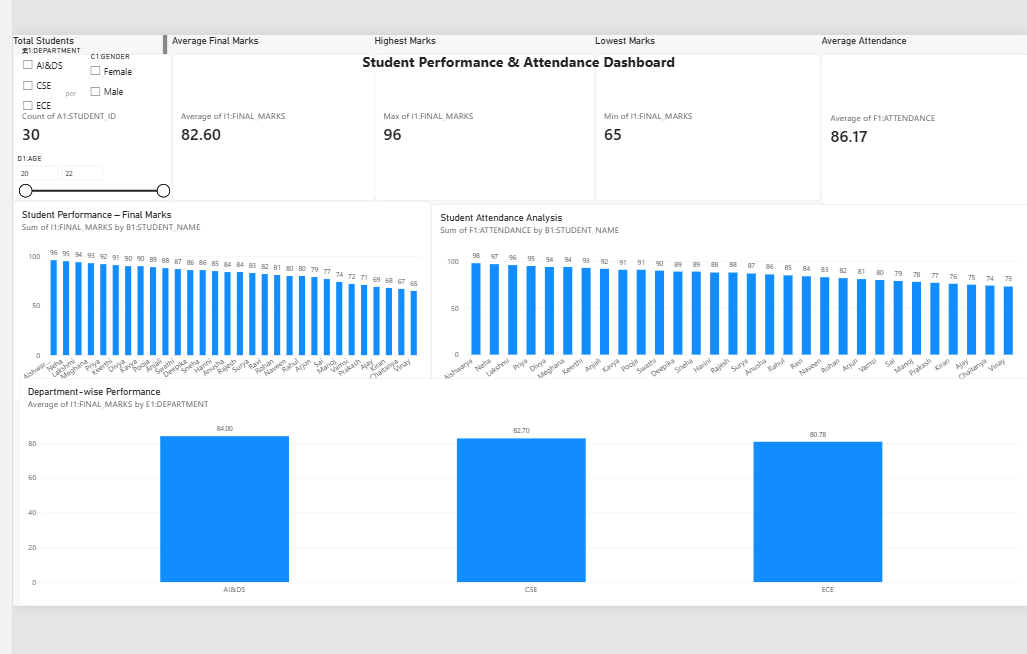

The page's visual inventory and layout, read from the dashboard file:
{"tool":"powerbi","page":{"name":"Page 1","canvas":[1920,1080],"ordinal":0},"visuals":[{"type":"cardVisual","fields":{"Rows":["Sheet1.A1:STUDENT_ID"]},"box":[10,0,280,280],"z":0},{"type":"cardVisual","title":"Average Final Marks","fields":{"Data":["Avg(Sheet1.I1:FINAL_MARKS)"]},"box":[300,0,383.3,313.3],"z":1000},{"type":"cardVisual","title":"Highest Marks","fields":{"Data":["Max(Sheet1.I1:FINAL_MARKS)"]},"box":[683.3,0,416.7,313.3],"z":2000},{"type":"cardVisual","title":"Lowest Marks","fields":{"Data":["Min(Sheet1.I1:FINAL_MARKS)"]},"box":[1100,0,426.7,313.3],"z":3000},{"type":"cardVisual","title":"Average Attendance","fields":{"Data":["Avg(Sheet1.F1:ATTENDANCE)"]},"box":[1526.7,0,393.3,320],"z":4000},{"type":"cardVisual","title":"Total Students","fields":{"Data":["Count(Sheet1.A1:STUDENT_ID)"]},"box":[0,0,300,313.3],"z":5000},{"type":"clusteredColumnChart","title":"Student Performance – Final Marks","fields":{"Category":["Sheet1.B1:STUDENT_NAME"],"Y":["Sum(Sheet1.I1:FINAL_MARKS)"]},"box":[0,313.3,790,376.7],"z":6000},{"type":"clusteredColumnChart","title":"Student Attendance Analysis","fields":{"Category":["Sheet1.B1:STUDENT_NAME"],"Y":["Sum(Sheet1.F1:ATTENDANCE)"]},"box":[790,320,1130,370],"z":7000},{"type":"clusteredColumnChart","title":"Department-wise Performance","fields":{"Category":["Sheet1.E1:DEPARTMENT"],"Y":["Avg(Sheet1.I1:FINAL_MARKS)"]},"box":[10,650,1910,430],"z":8000},{"type":"textbox","box":[100,100,300,300],"z":9000},{"type":"textbox","box":[100,0,300,400],"z":10000},{"type":"textbox","box":[100,100,300,300],"z":11000},{"type":"textbox","box":[100,100,300,300],"z":12000},{"type":"textbox","box":[100,100,300,300],"z":13000},{"type":"textbox","box":[100,100,300,300],"z":14000},{"type":"textbox","box":[100,30,1713.3,193.3],"z":15000},{"type":"slicer","fields":{"Values":["Sheet1.E1:DEPARTMENT"]},"box":[10,20,300,300],"z":15001},{"type":"slicer","fields":{"Values":["Sheet1.C1:GENDER"]},"box":[140,30,300,300],"z":15002},{"type":"slicer","fields":{"Values":["Sheet1.D1:AGE"]},"box":[0,223.3,300,300],"z":15003}]}

Visuals, with their boxes on the page's 1920x1080 design canvas (x1, y1, x2, y2). These are canvas units, not pixel positions in the 1027x654 screenshot, which may show the page scaled, cropped or inside an application window:
cardVisual - Sheet1.A1:STUDENT_ID: <box>10,0,290,280</box>
"Average Final Marks" cardVisual: <box>300,0,683,313</box>
"Highest Marks" cardVisual: <box>683,0,1100,313</box>
"Lowest Marks" cardVisual: <box>1100,0,1527,313</box>
"Average Attendance" cardVisual: <box>1527,0,1920,320</box>
"Total Students" cardVisual: <box>0,0,300,313</box>
"Student Performance – Final Marks" clusteredColumnChart: <box>0,313,790,690</box>
"Student Attendance Analysis" clusteredColumnChart: <box>790,320,1920,690</box>
"Department-wise Performance" clusteredColumnChart: <box>10,650,1920,1080</box>
textbox: <box>100,100,400,400</box>
textbox: <box>100,0,400,400</box>
textbox: <box>100,100,400,400</box>
textbox: <box>100,100,400,400</box>
textbox: <box>100,100,400,400</box>
textbox: <box>100,100,400,400</box>
textbox: <box>100,30,1813,223</box>
slicer - Sheet1.E1:DEPARTMENT: <box>10,20,310,320</box>
slicer - Sheet1.C1:GENDER: <box>140,30,440,330</box>
slicer - Sheet1.D1:AGE: <box>0,223,300,523</box>
